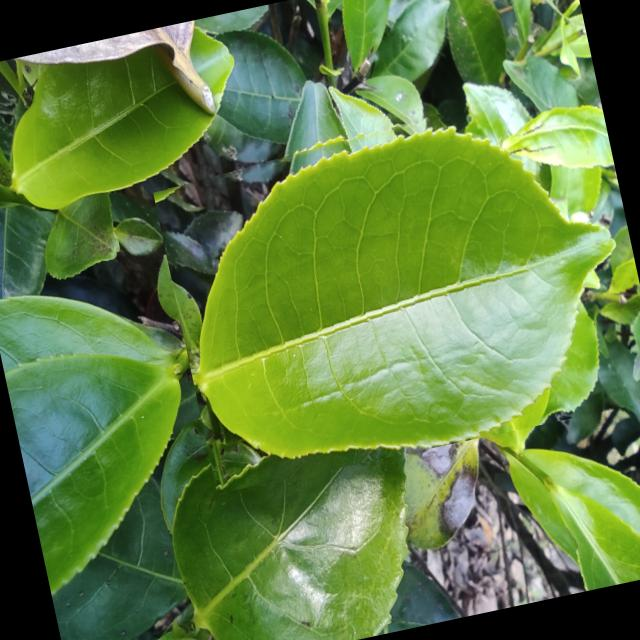Category B(2-4 days): (146, 74, 640, 493)
